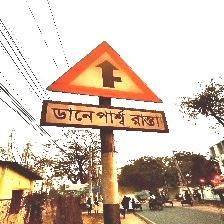Side-road-right: (41, 41, 168, 133)
